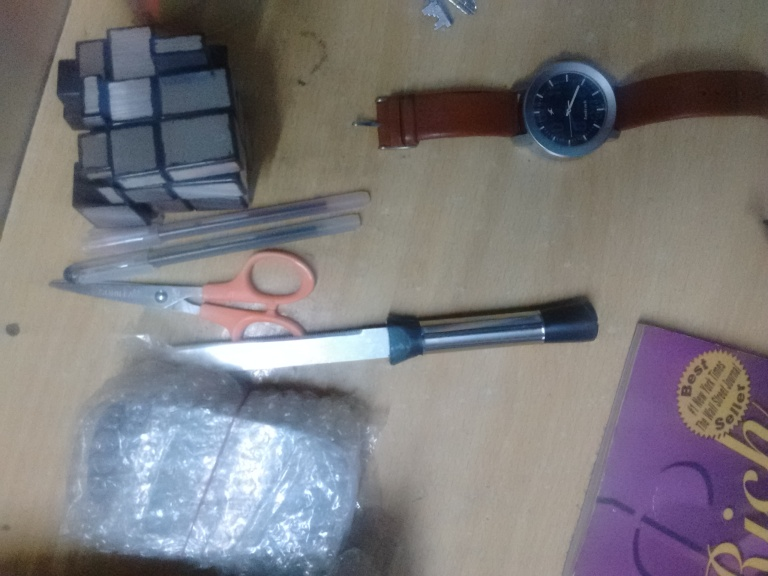knife: (188, 300, 599, 372)
